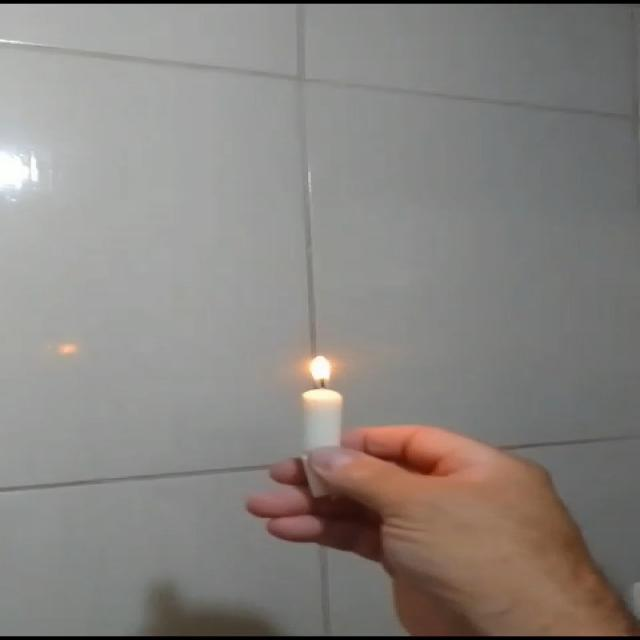fogo-ypXI: (300, 354, 340, 388)
